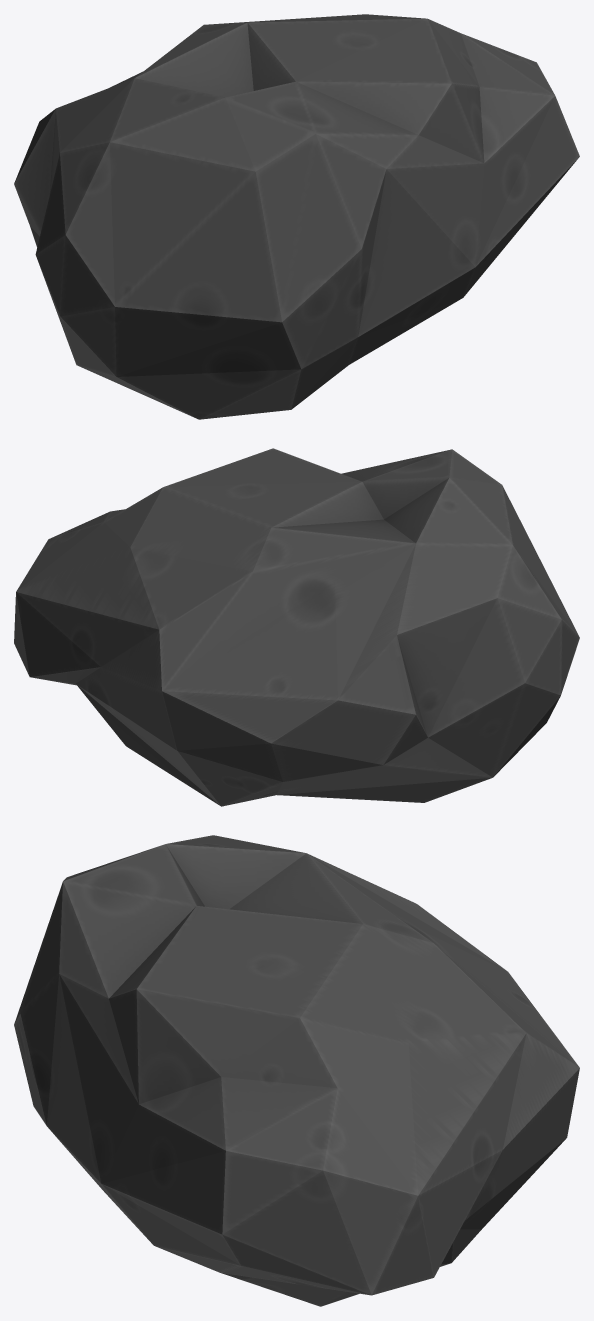
The model's file is rock_6.obj.
The picture shows the model from 3 angles, top to bottom: view 1: azimuth 30°, elevation 25°; view 2: azimuth 150°, elevation 25°; view 3: azimuth 270°, elevation 25°; orthographic projection. The views are drawn at different scales.
Parts seen in each view (by area): view 1: Asteroids_Mesh.006; view 2: Asteroids_Mesh.006; view 3: Asteroids_Mesh.006.
Part boxes in pixels (box(x1,y1,x2,y2)): Asteroids_Mesh.006: box(14, 14, 579, 419); Asteroids_Mesh.006: box(14, 448, 579, 806); Asteroids_Mesh.006: box(14, 835, 579, 1306).
Size of the model in its own units: 5.19 by 3.18 by 4.26.
